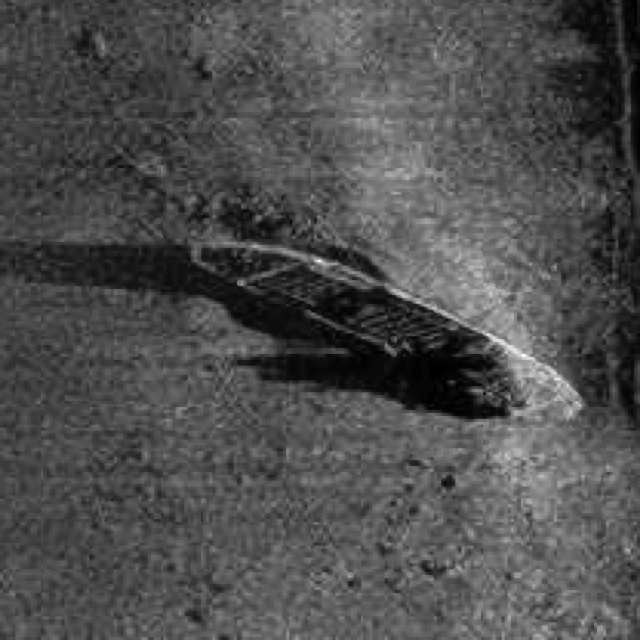Ship: (177, 225, 595, 440)
